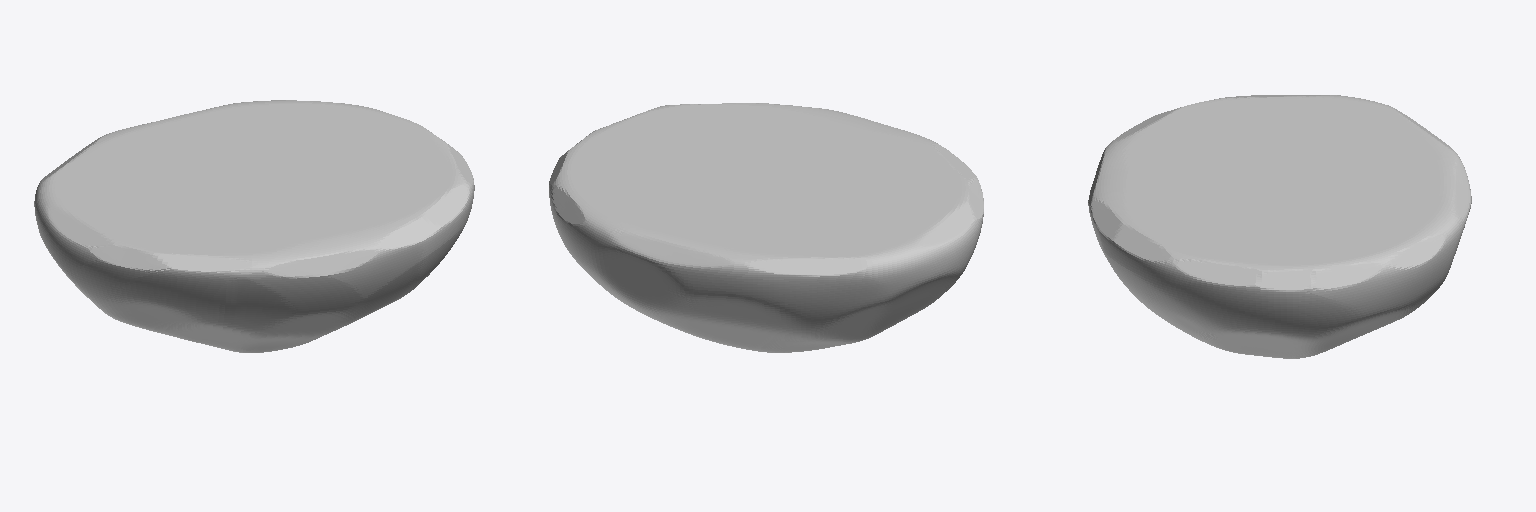
File: hp dont use.OBJ
The picture shows the model from 3 angles: view 1: azimuth 30°, elevation 25°; view 2: azimuth 150°, elevation 25°; view 3: azimuth 270°, elevation 25°; orthographic projection.
Parts seen in each view (by area): view 1: Group3770; view 2: Group3770; view 3: Group3770.
Boxes of the visible parts, x1,y1,x2,y2 form: Group3770: [34, 100, 474, 352]; Group3770: [549, 103, 983, 352]; Group3770: [1088, 95, 1471, 358].
Size of the model in its own units: 15.37 by 5.69 by 13.04.